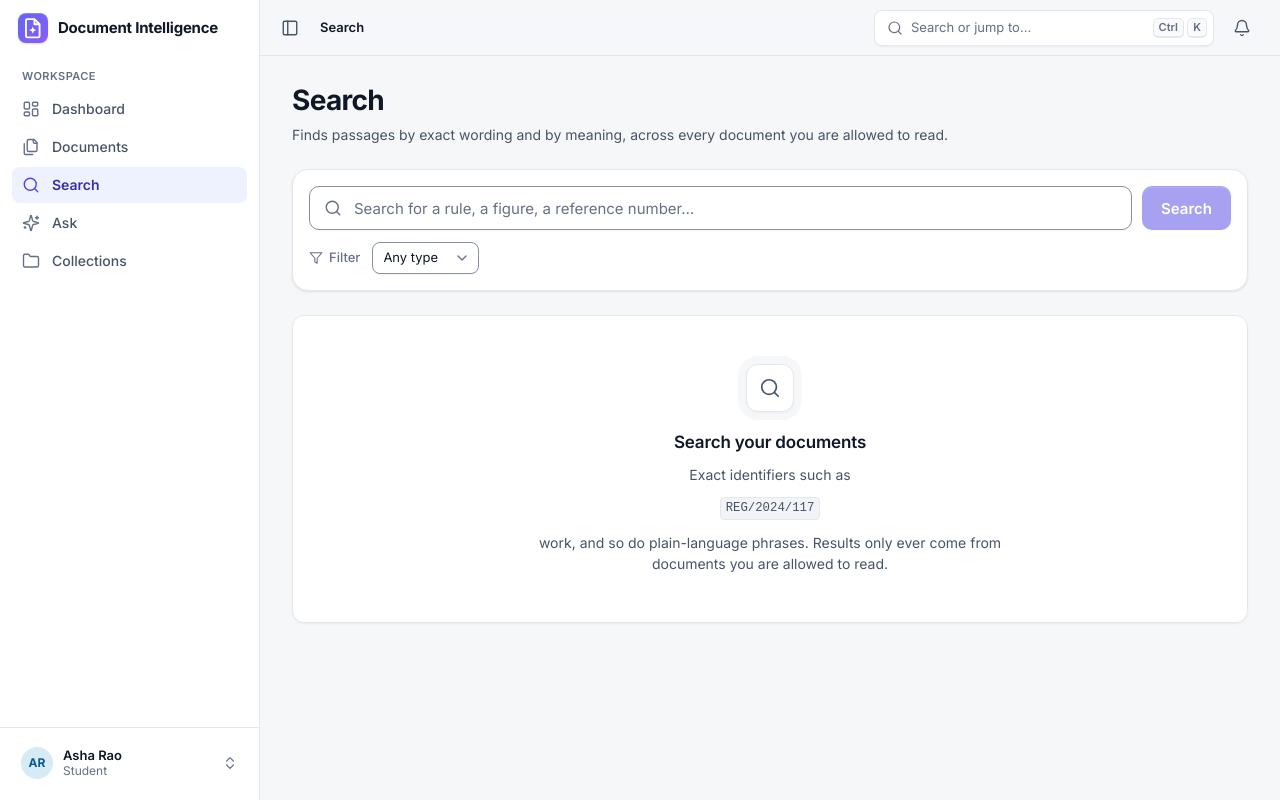
Test: SearchPage › shows a passage as sentences, keeping its items on their own lines
Type "attendance" into the search field named "Search documents" at [721, 208], box [309,186,1132,230]
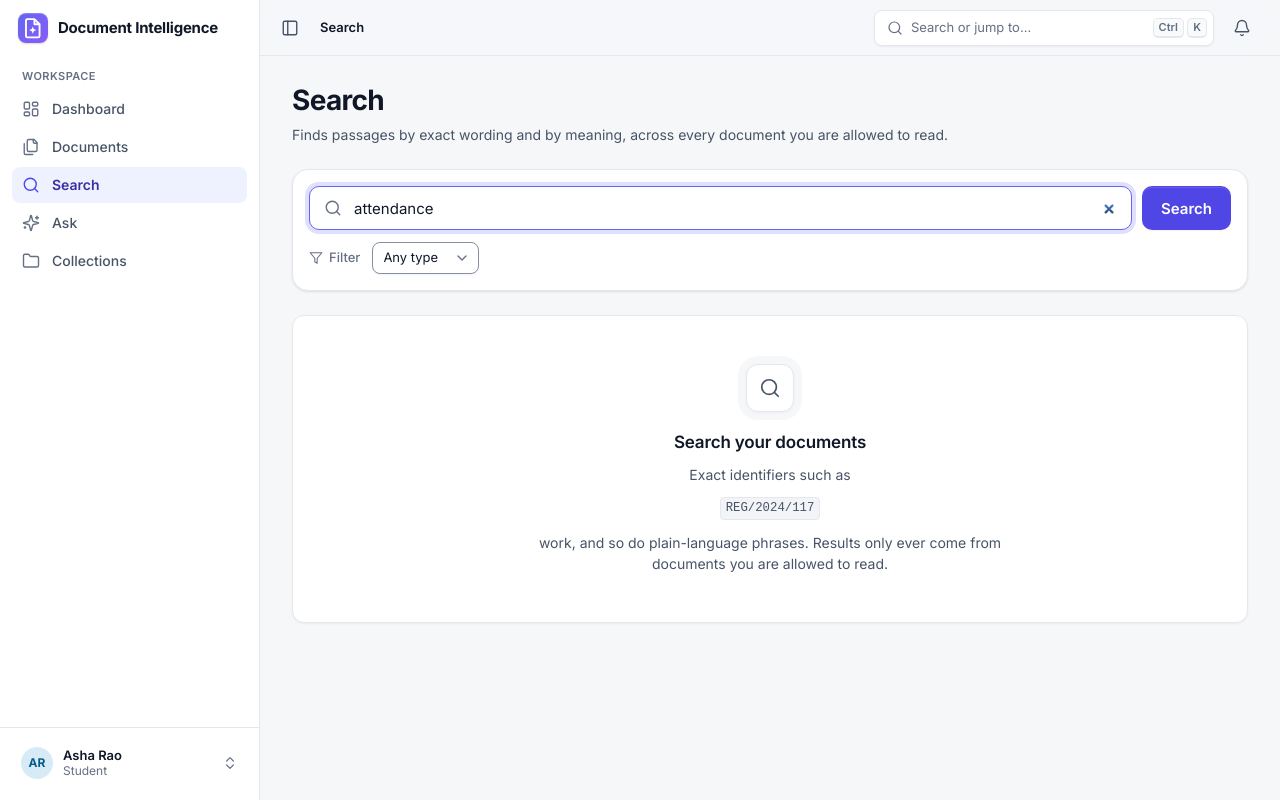
Click the button "Search" at [1187, 208], box [1142,186,1231,230]
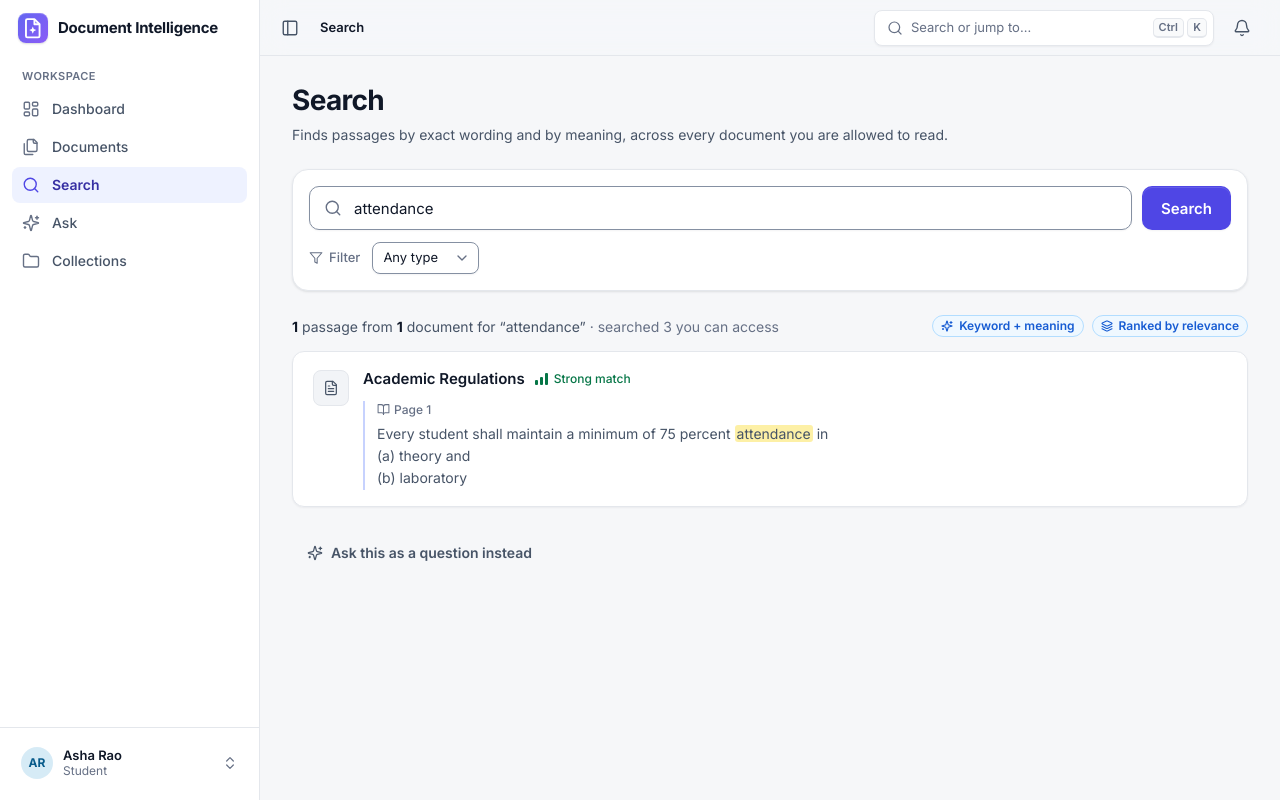
expect the link "Academic Regulations" is shown: met, box [363,368,525,391]
